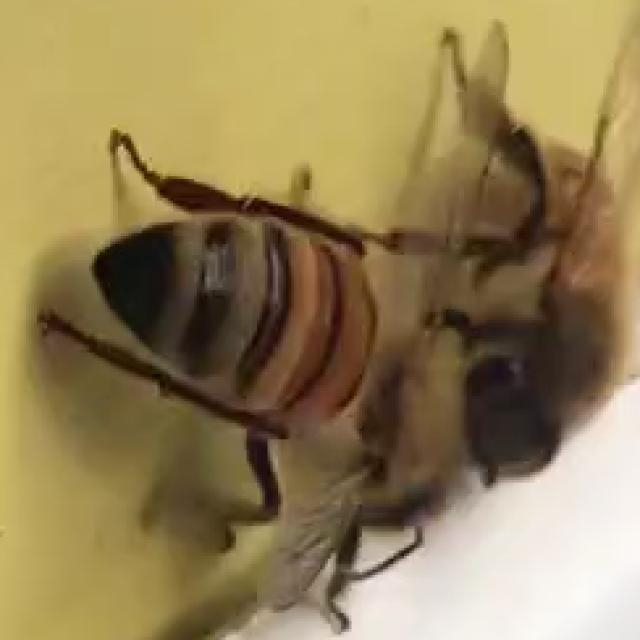honeybee: (108, 38, 432, 640), (432, 0, 640, 640)
